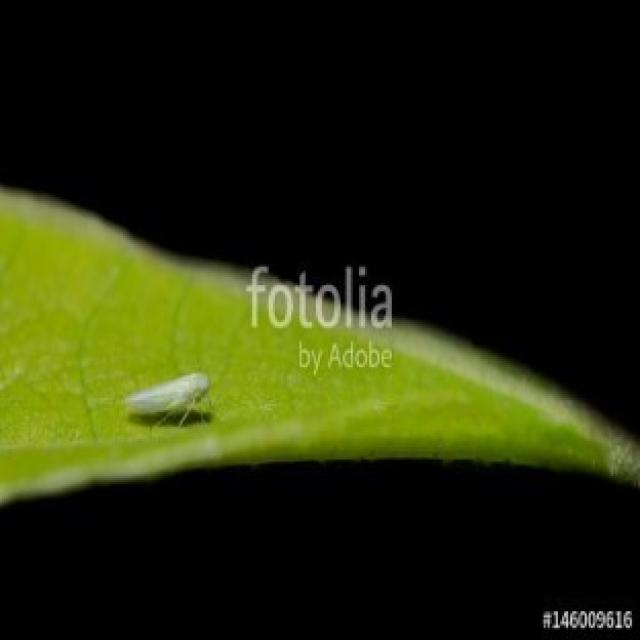brown plant hopper: (129, 371, 211, 423)
